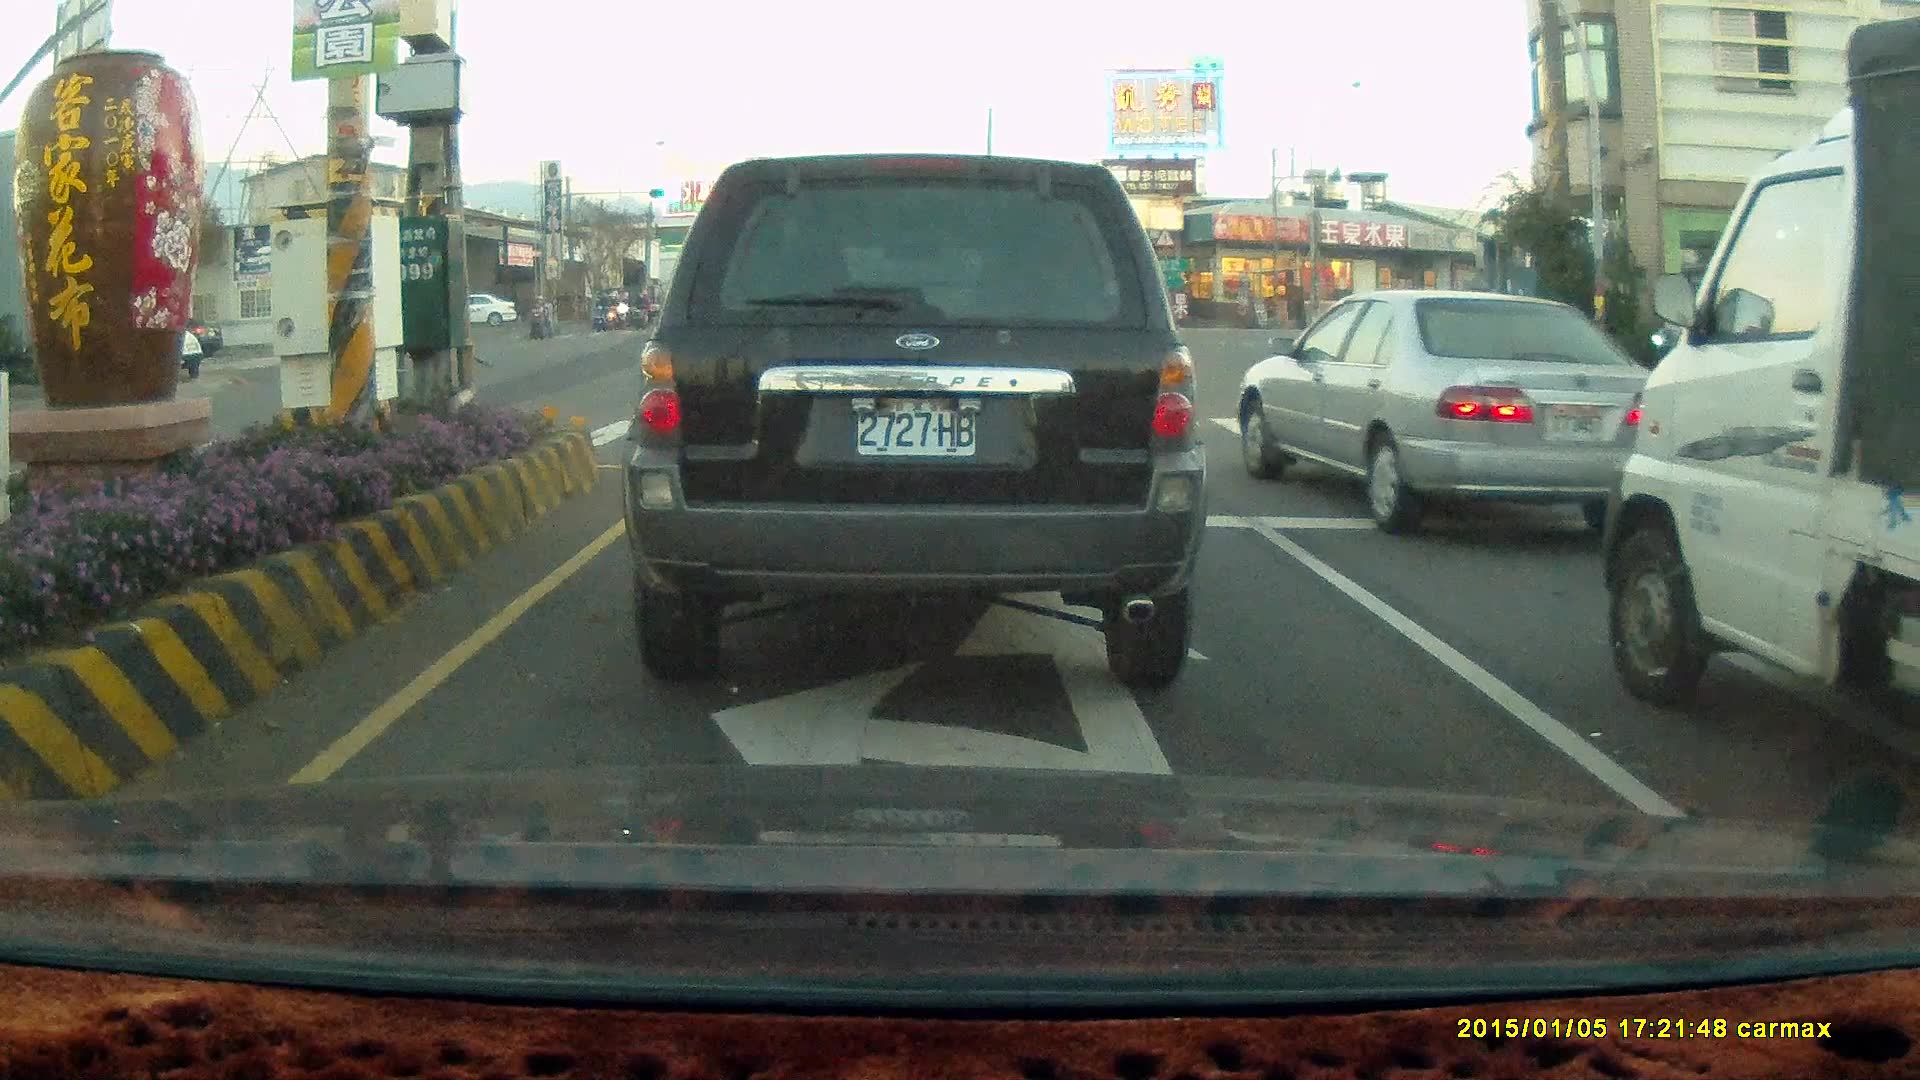rider: (523, 289, 553, 340), (628, 289, 651, 330), (590, 289, 611, 331), (593, 294, 615, 332)
vehicle: (617, 150, 1210, 695), (1596, 13, 1920, 785), (1232, 287, 1676, 536), (1236, 288, 1658, 535), (1671, 279, 1827, 371), (448, 295, 519, 328)
